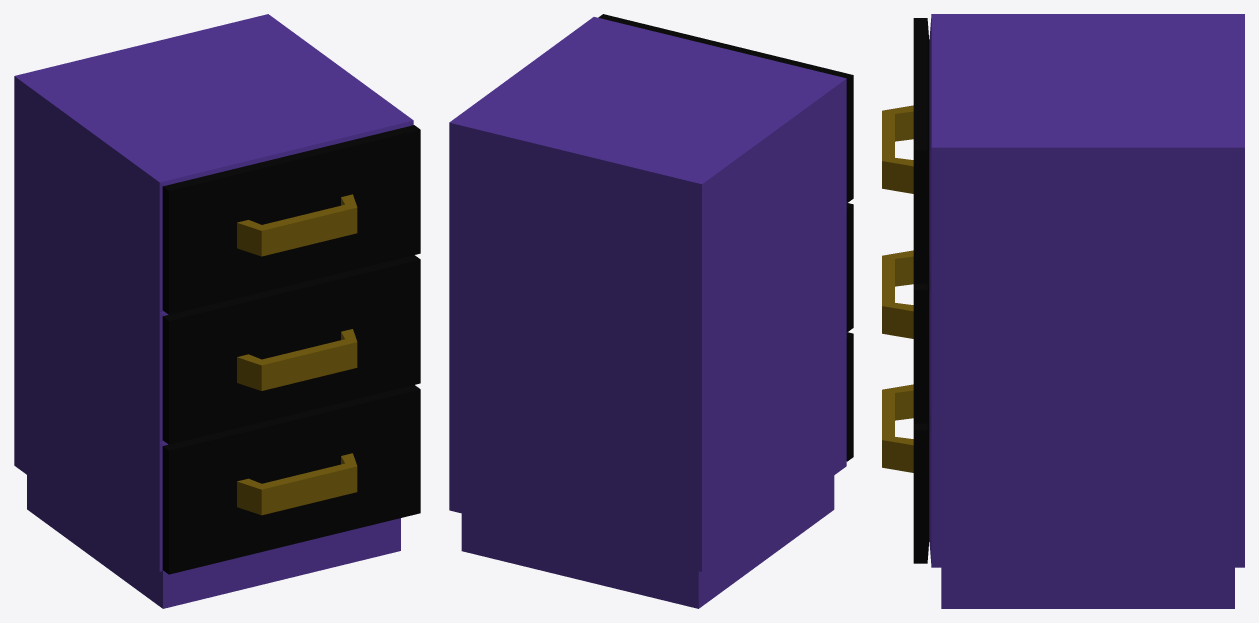
File: drawer2.fbx
The picture shows the model from 3 angles, left to right: view 1: azimuth 30°, elevation 25°; view 2: azimuth 150°, elevation 25°; view 3: azimuth 270°, elevation 25°; orthographic projection. The views are drawn at different scales.
Visible parts, largest first — view 1: drawer2; view 2: drawer2; view 3: drawer2.
Boxes of the visible parts, box(x1,y1,x2,y2) form: drawer2: box(14, 14, 420, 608); drawer2: box(449, 14, 853, 608); drawer2: box(882, 14, 1244, 608).
Size of the model in its own units: 43.1 by 70 by 49.43.
